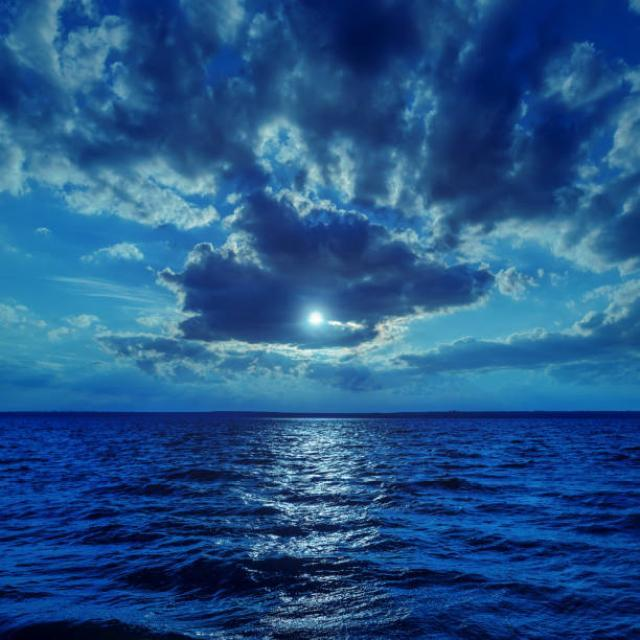moon: (300, 304, 328, 334)
